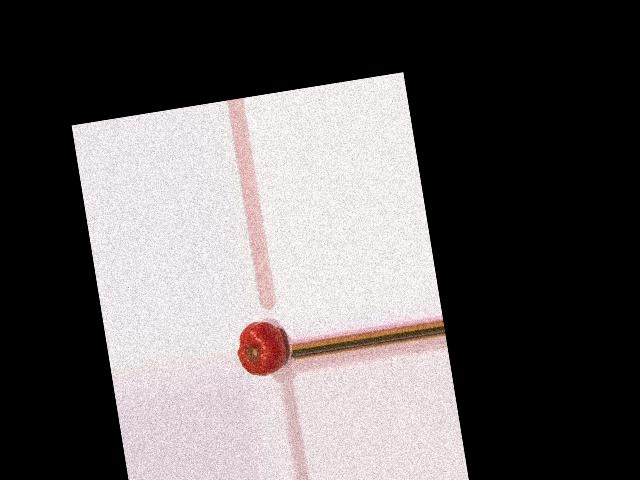tomato: (233, 318, 289, 378)
